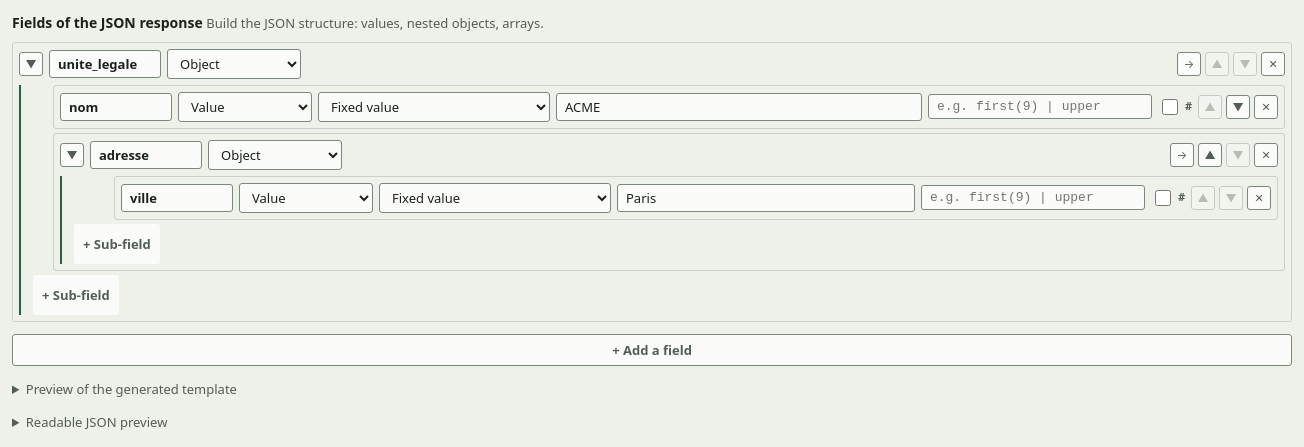
Test case: JsonResponseBuilder — breadcrumb navigation › clicking "root" in the breadcrumb goes back up
Click the button named "Go into unite_legale": {"x": 1189, "y": 64} [1177,52,1201,76]
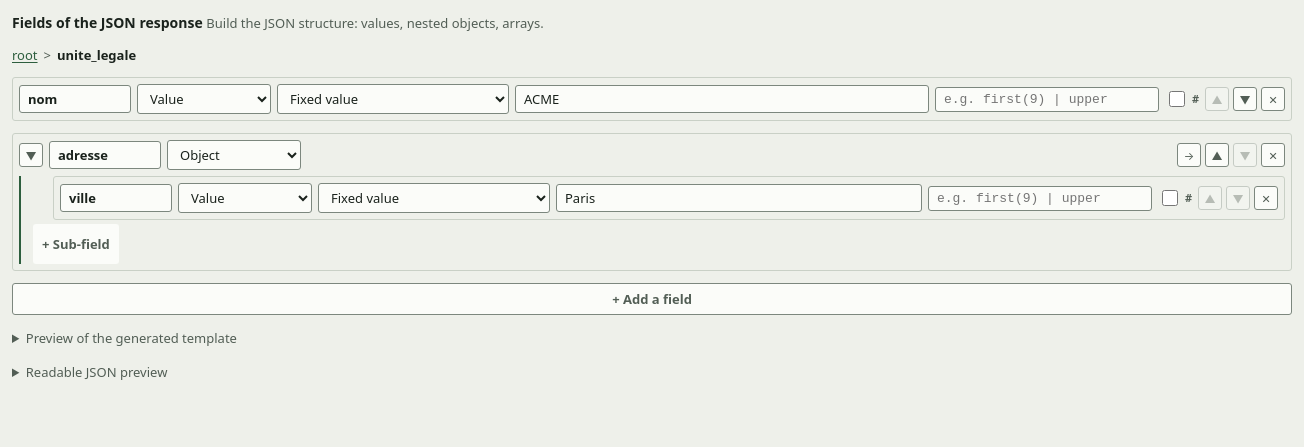
Click the button named "Go into adresse": {"x": 1189, "y": 155} [1177,143,1201,167]
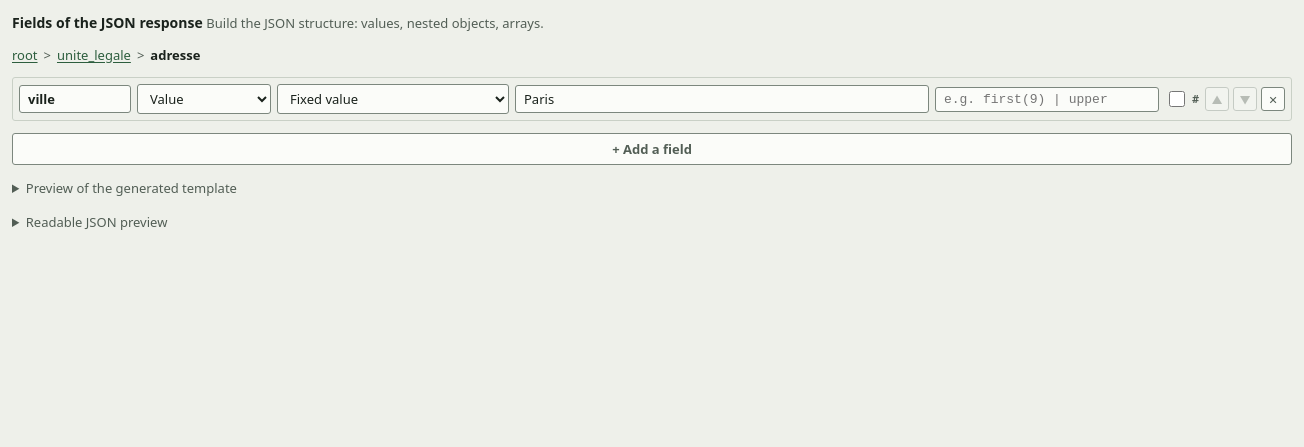
Expected: the field showing "ville" is shown, [19,85,131,113]
Click the button "root": {"x": 25, "y": 55} [12,46,38,65]
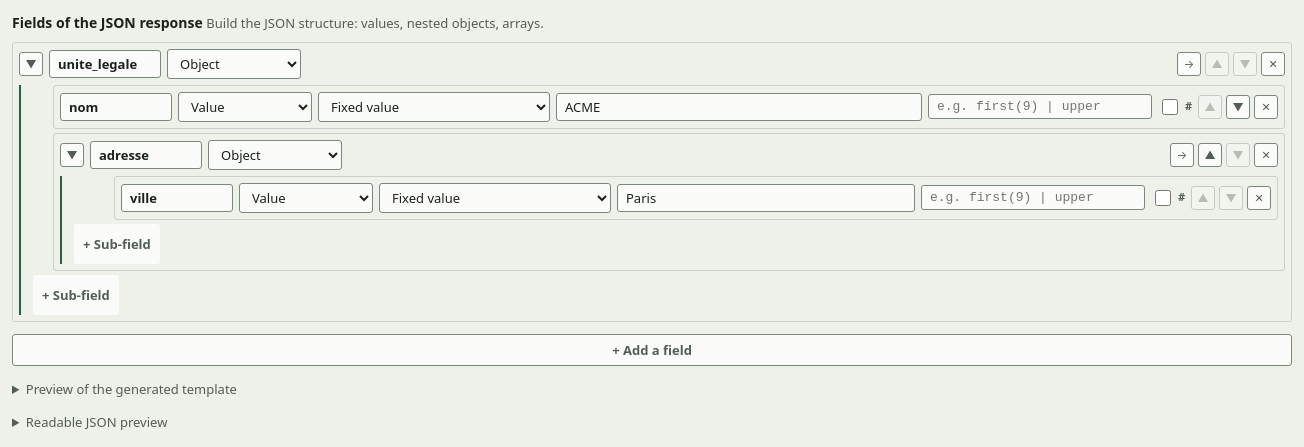
Expected: the 1st field showing "unite_legale" is shown, [49,50,161,78]
